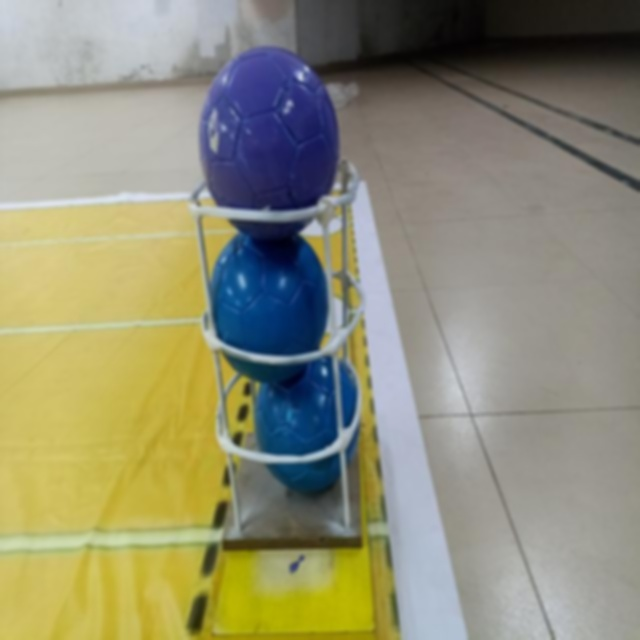blue_ball: (211, 234, 327, 376), (252, 364, 359, 483)
purple_ball: (197, 43, 342, 243)
silo: (189, 148, 364, 546)
